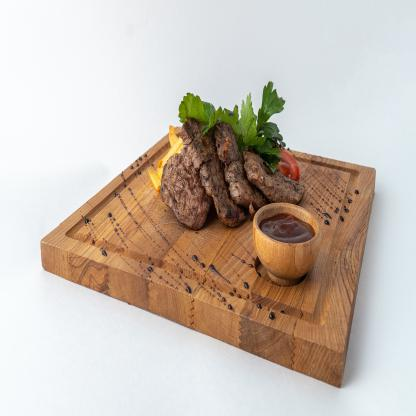Carne: (242, 149, 310, 205), (165, 152, 210, 229), (190, 118, 221, 225), (220, 116, 249, 206)
